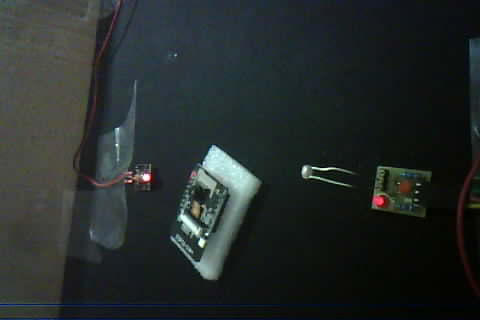esp32: (166, 145, 243, 268)
